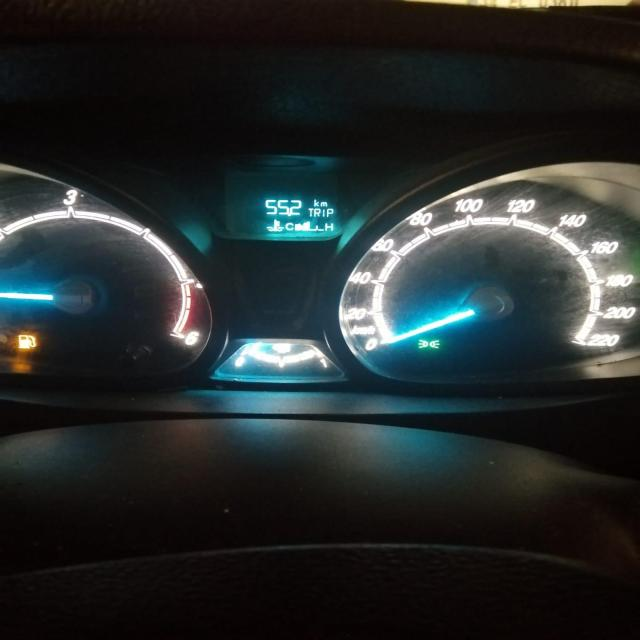odometer: (226, 188, 346, 240)
